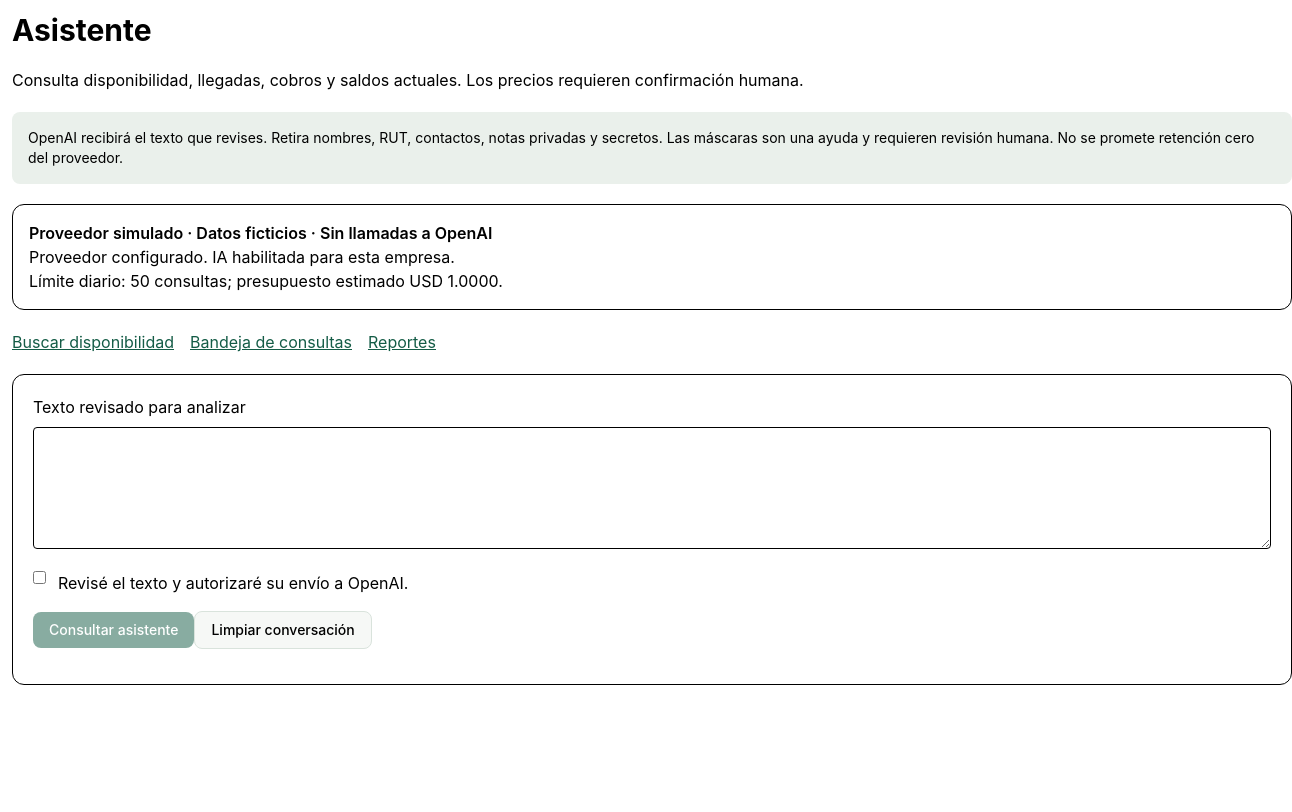
it: exige revisión humana, invalida revisión al editar y limita configuración de staff
The image size is (1292, 812).
Expected: the text "Proveedor simulado · Datos ficticios · Sin llamadas a OpenAI" is shown, [29, 223, 492, 243]
Type "2 personas" into the text box labelled "Texto revisado para analizar" at {"x": 652, "y": 488}, box [33, 427, 1271, 549]
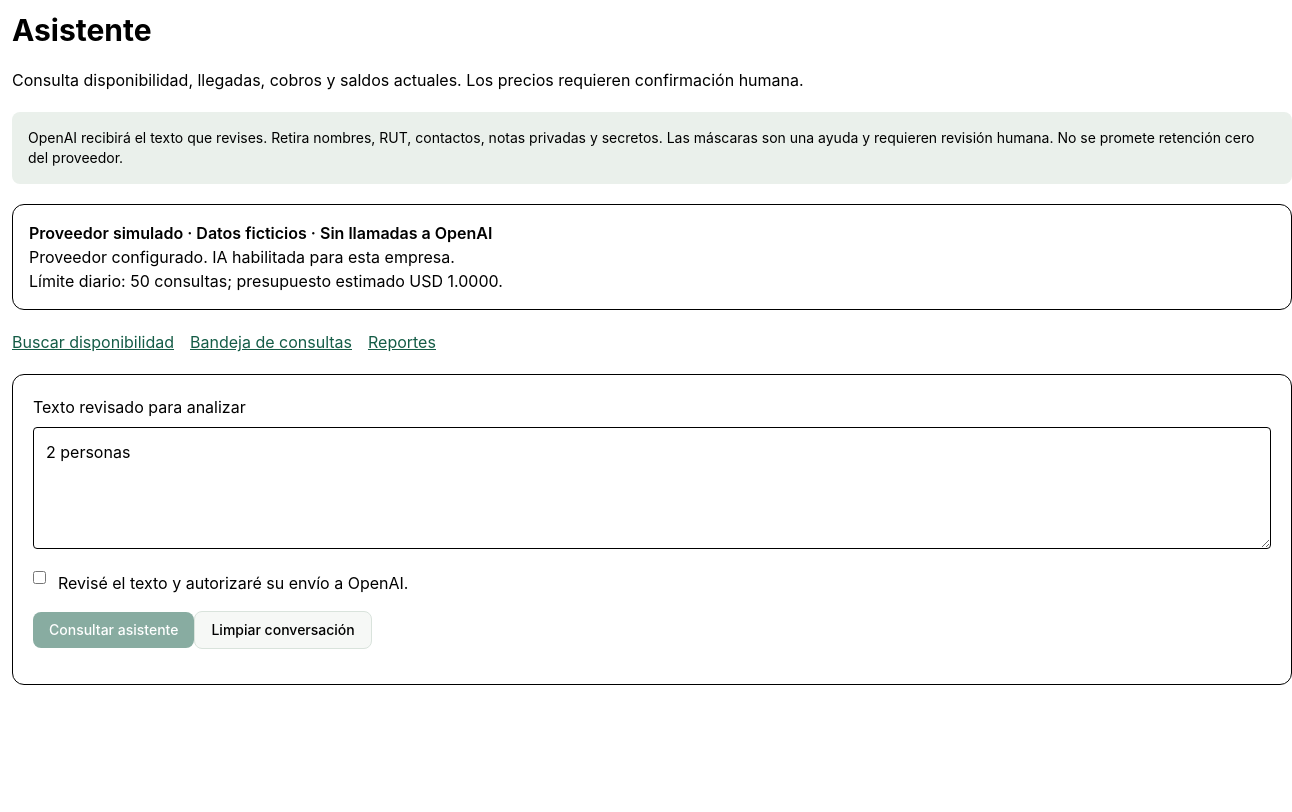
Expected: the button "Consultar asistente" is disabled, [33, 612, 194, 648]
Click the checkbox at {"x": 40, "y": 578}, box [33, 571, 46, 584]
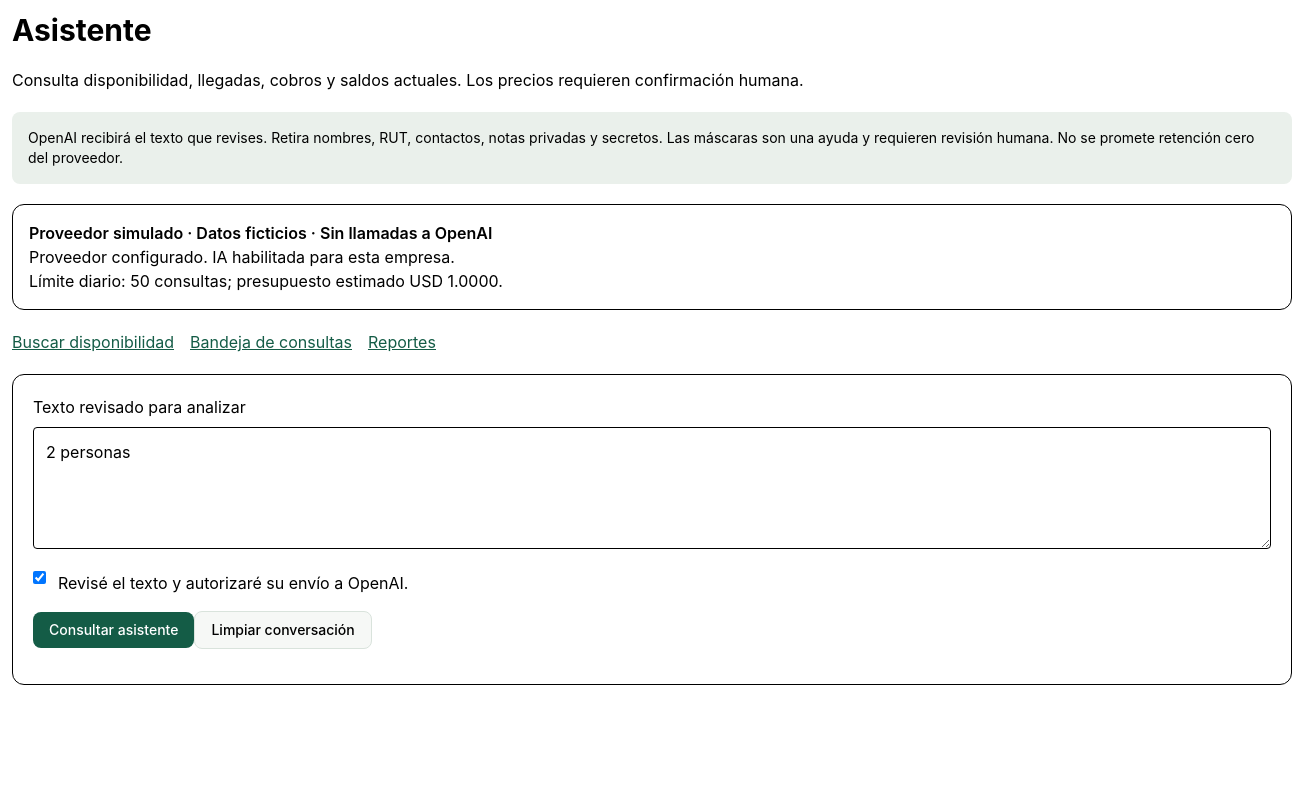
Result: the button "Consultar asistente" is enabled at [33, 612, 194, 648]
Replace the text in the text box labelled "Texto revisado para analizar" with "3 personas" at {"x": 652, "y": 488}, box [33, 427, 1271, 549]
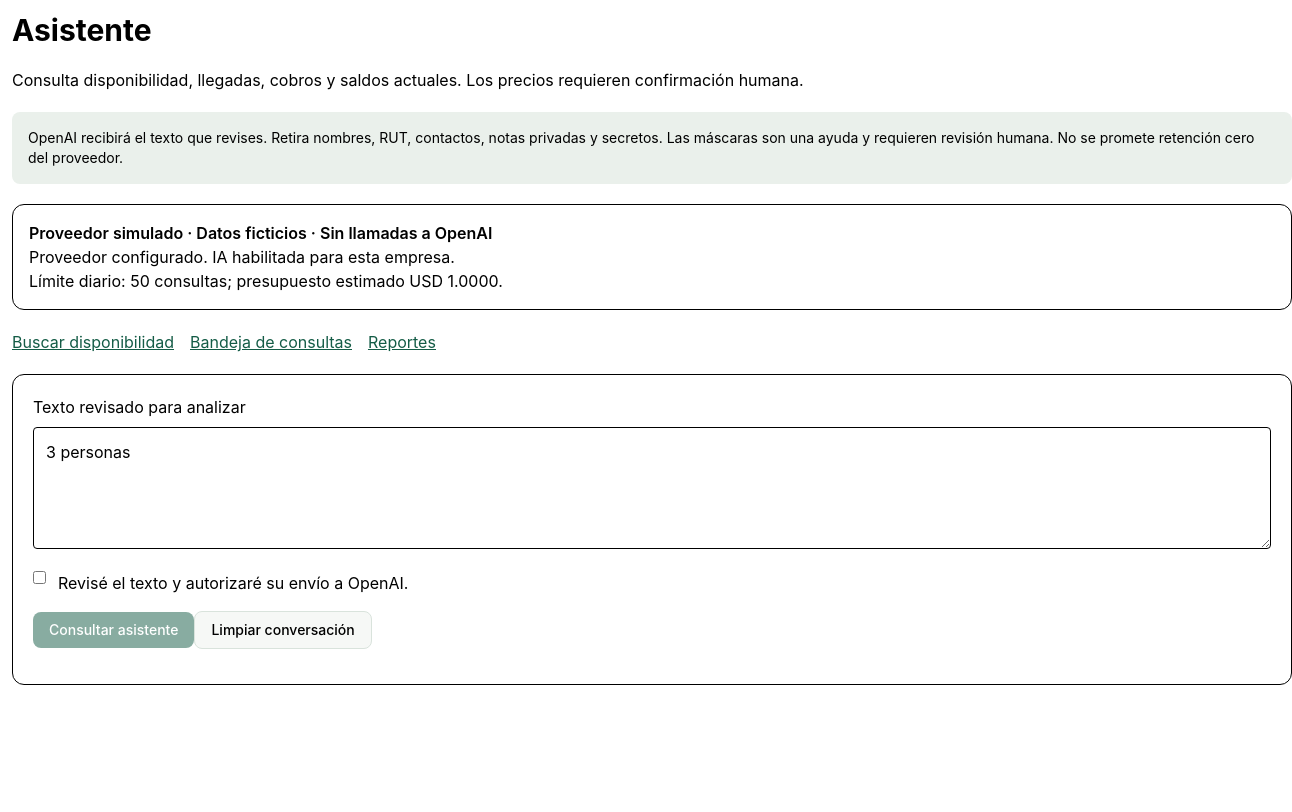
Result: the button "Consultar asistente" is disabled at [33, 612, 194, 648]
Click the checkbox at {"x": 40, "y": 578}, box [33, 571, 46, 584]
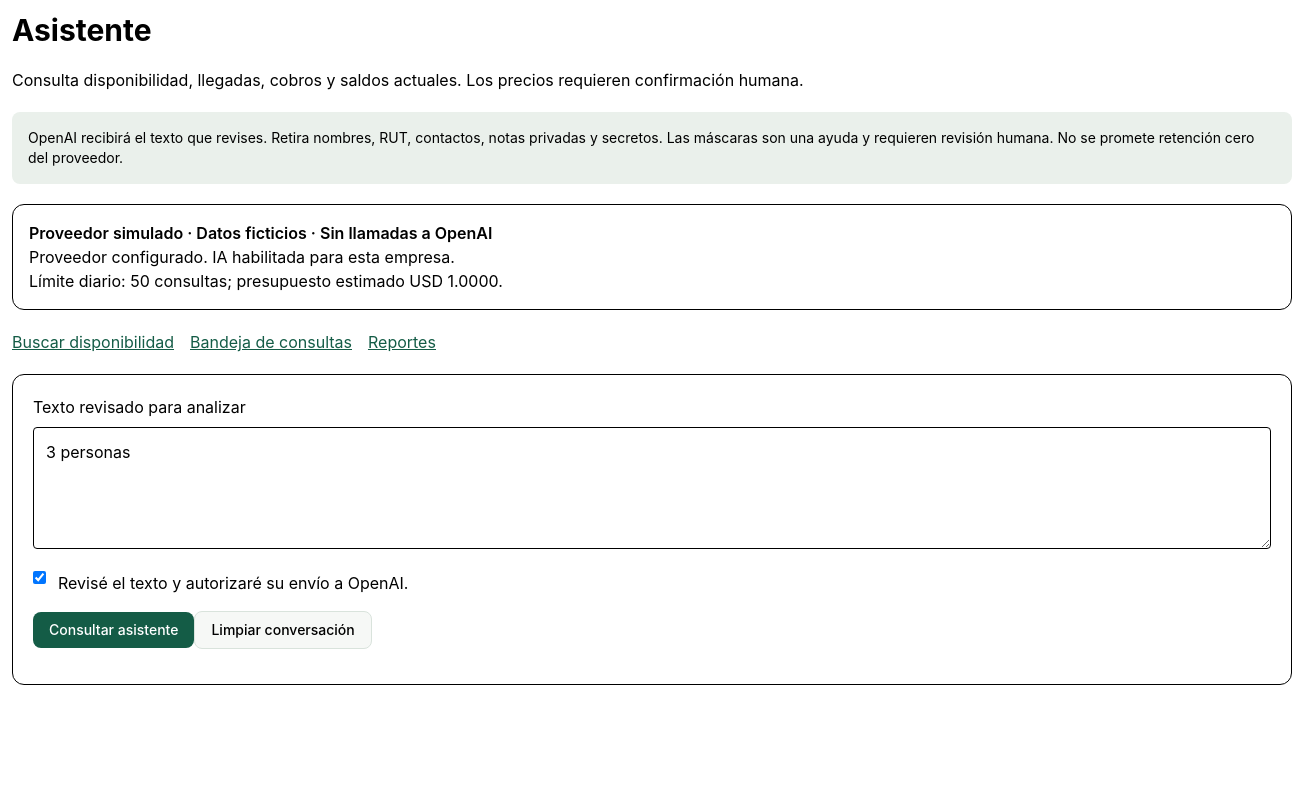
Click the button "Consultar asistente" at {"x": 114, "y": 630}, box [33, 612, 194, 648]
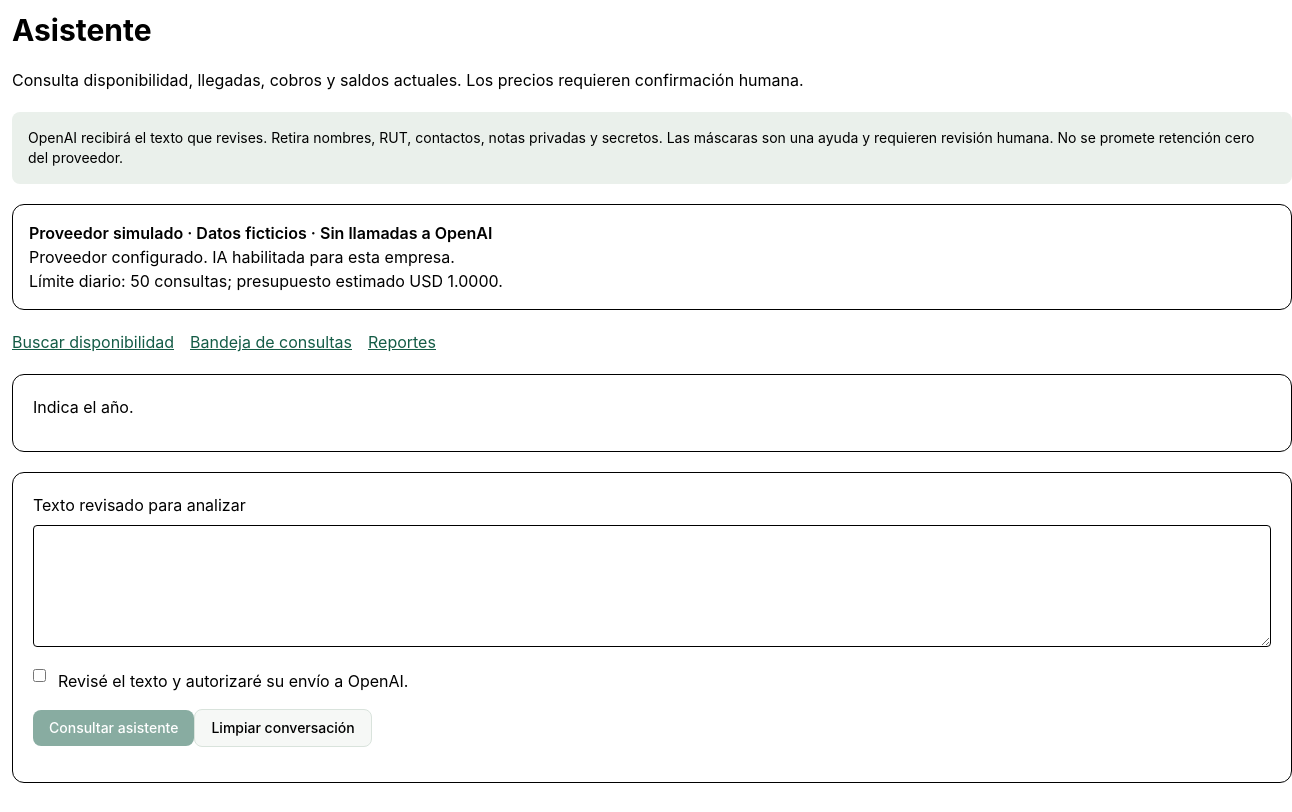
Result: the text "Indica el año." is shown at [33, 397, 134, 417]
Click the button "Limpiar conversación" at {"x": 283, "y": 728}, box [194, 709, 372, 747]
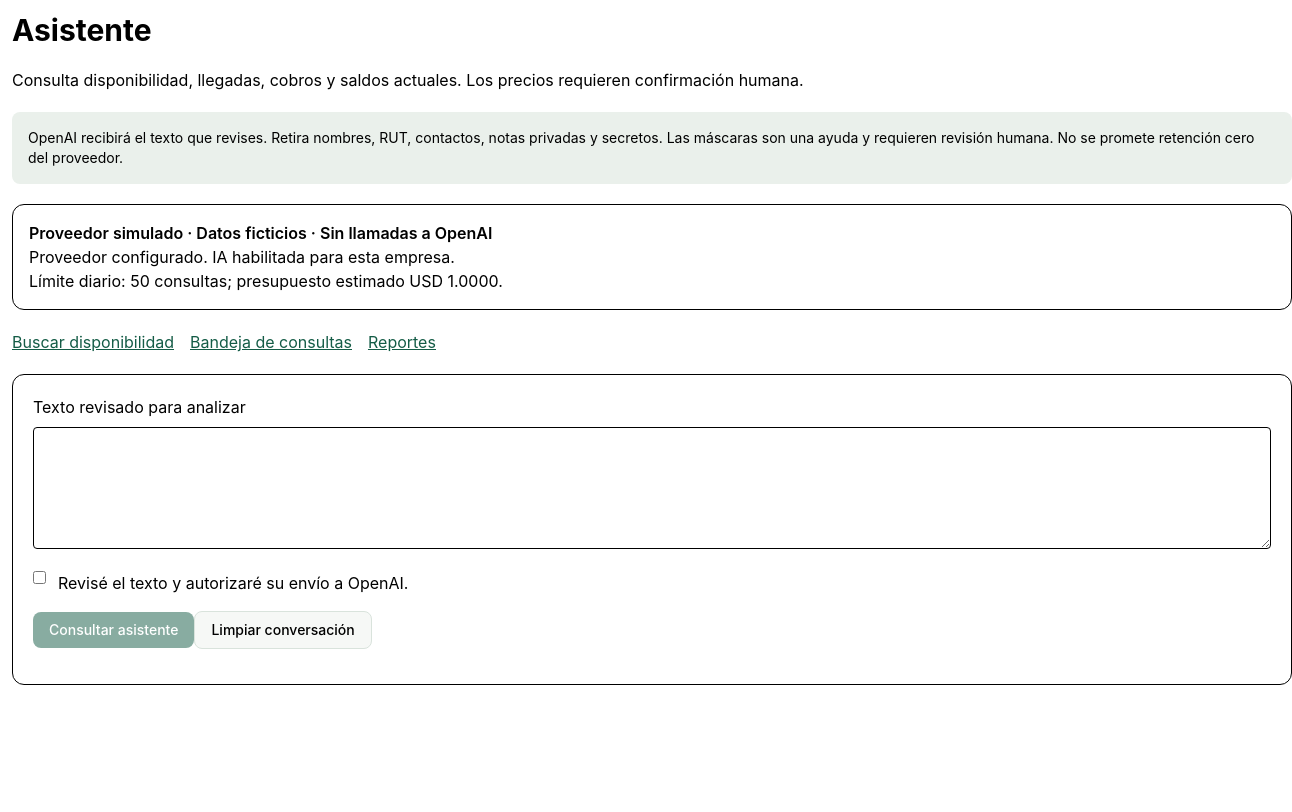
Result: the text "Indica el año." is gone
